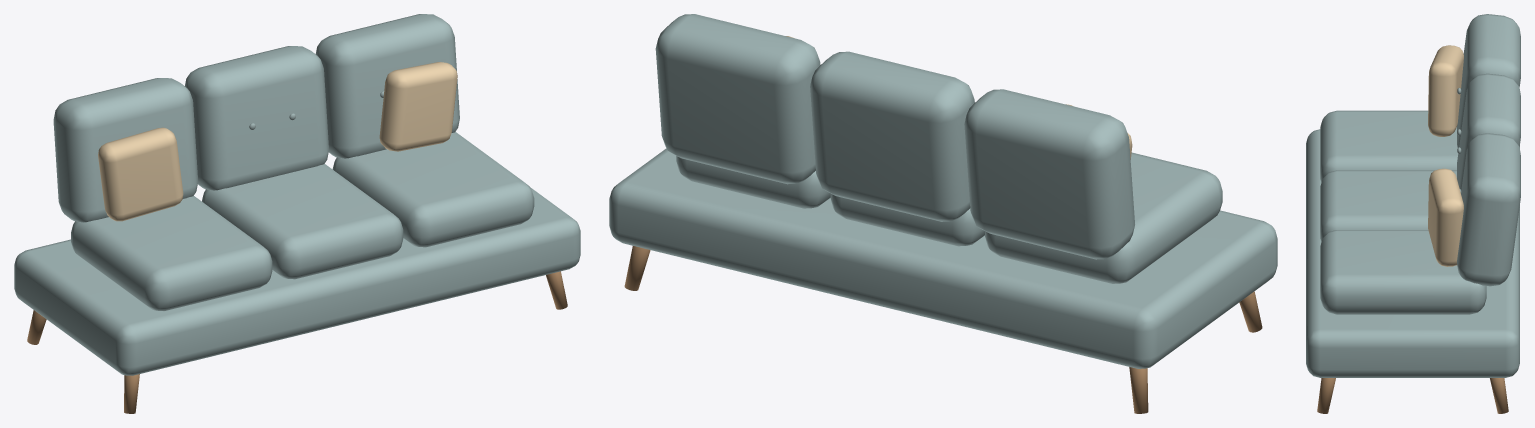
File: atelier-outdoor-sofa.glb
3 views of the same model, side by side, from view 1: azimuth 30°, elevation 25°; view 2: azimuth 150°, elevation 25°; view 3: azimuth 270°, elevation 25° (orthographic). The views are drawn at different scales.
Parts seen in each view (by area): view 1: fabric.095, accent.045, legs.192; view 2: fabric.095, legs.192; view 3: fabric.095, accent.045, legs.192.
Boxes of the visible parts, x1,y1,x2,y2 form: fabric.095: [14, 14, 580, 375]; accent.045: [98, 62, 457, 221]; legs.192: [27, 271, 567, 413]; fabric.095: [609, 14, 1277, 368]; legs.192: [624, 246, 1262, 413]; fabric.095: [1306, 14, 1520, 377]; accent.045: [1428, 45, 1463, 266]; legs.192: [1317, 378, 1508, 413].
Size of the model in its own units: 2.1 by 1.02 by 0.9046.
